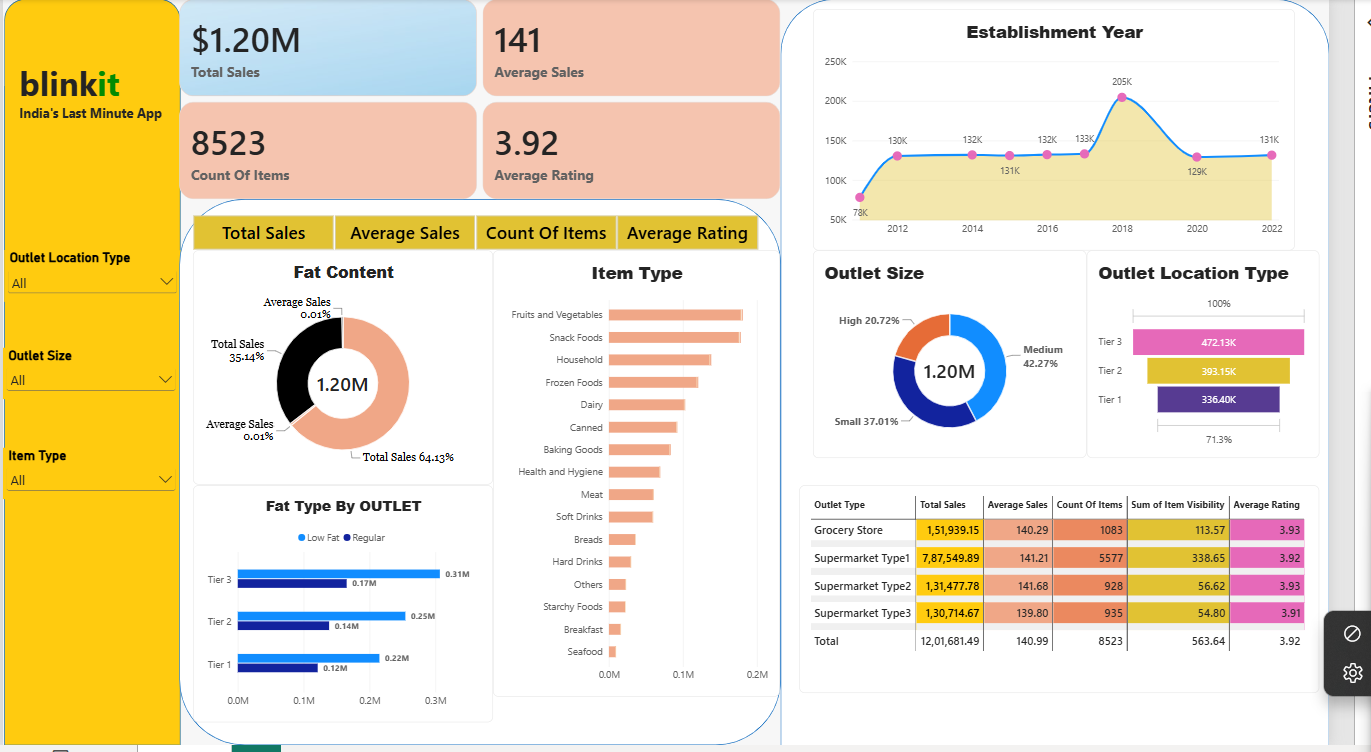

What the dashboard file says about the page in this screenshot:
{"tool":"powerbi","page":{"name":"Page 1","canvas":[1920,1080],"ordinal":0},"visuals":[{"type":"shape","box":[2.1,0,255.2,1080.6],"z":0},{"type":"textbox","box":[22.6,70,234.6,146.1],"z":1000},{"type":"slicer","fields":{"Values":["BlinkIT Grocery Data.Outlet Location Type"]},"box":[2.1,364.3,255.2,74.1],"z":2000},{"type":"slicer","fields":{"Values":["BlinkIT Grocery Data.Outlet Size"]},"box":[0,504.3,255.2,74.1],"z":3000},{"type":"slicer","fields":{"Values":["BlinkIT Grocery Data.Item Type"]},"box":[0,650.4,255.2,74.1],"z":4000},{"type":"shape","box":[254.4,290.4,871.2,790.6],"z":5000},{"type":"shape","box":[1125.6,0,794.9,1081],"z":6000},{"type":"cardVisual","fields":{"Data":["BlinkIT Grocery Data.Total Sales","BlinkIT Grocery Data.Average Sales","BlinkIT Grocery Data.Count Of Items","BlinkIT Grocery Data.Average Rating"]},"box":[254.4,0,871.2,290.4],"z":7000},{"type":"slicer","fields":{"Values":["Sales Parameter.Sales Parameter"]},"box":[254.4,311.6,856.4,53],"z":8000},{"type":"donutChart","title":"Fat Content","fields":{"Category":["BlinkIT Grocery Data.Item Fat Content"],"Y":["BlinkIT Grocery Data.Total Sales","BlinkIT Grocery Data.Average Sales","BlinkIT Grocery Data.Count Of Items","BlinkIT Grocery Data.Average Rating"]},"box":[275.6,364.6,434.5,339.1],"z":8001},{"type":"clusteredBarChart","title":"Fat Type By OUTLET","fields":{"Series":["BlinkIT Grocery Data.Item Fat Content"],"Category":["BlinkIT Grocery Data.Outlet Location Type"],"Y":["BlinkIT Grocery Data.Total Sales"]},"box":[275.6,703.7,434.5,343.4],"z":8002},{"type":"barChart","title":"Item Type","fields":{"Category":["BlinkIT Grocery Data.Item Type"],"Y":["BlinkIT Grocery Data.Total Sales","BlinkIT Grocery Data.Average Sales","BlinkIT Grocery Data.Count Of Items","BlinkIT Grocery Data.Average Rating"]},"box":[710.1,364.6,415.5,646.5],"z":8003},{"type":"lineChart","title":"Establishment Year","fields":{"Category":["BlinkIT Grocery Data.Outlet Establishment Year"],"Y":["Sum(BlinkIT Grocery Data.Sales)"]},"box":[1172.2,14.8,697.4,349.7],"z":8004},{"type":"donutChart","title":"Outlet Size","fields":{"Category":["BlinkIT Grocery Data.Outlet Size"],"Y":["Sum(BlinkIT Grocery Data.Sales)"]},"box":[1172.2,364.6,396.4,301],"z":8005},{"type":"funnel","title":"Outlet Location Type","fields":{"Category":["BlinkIT Grocery Data.Outlet Location Type"],"Y":["Sum(BlinkIT Grocery Data.Sales)"]},"box":[1568.6,364.6,337,301],"z":8006},{"type":"pivotTable","fields":{"Rows":["BlinkIT Grocery Data.Outlet Type"],"Values":["BlinkIT Grocery Data.Total Sales","BlinkIT Grocery Data.Average Sales","BlinkIT Grocery Data.Count Of Items","Sum(BlinkIT Grocery Data.Item Visibility)","BlinkIT Grocery Data.Average Rating"]},"box":[1153.1,703.7,752.5,301],"z":8007}]}

Visuals, with their boxes in screenshot pixels (x1, y1, x2, y2):
shape: <region>1, 21, 177, 751</region>
textbox: <region>16, 70, 177, 170</region>
slicer - BlinkIT Grocery Data.Outlet Location Type: <region>1, 272, 177, 323</region>
slicer - BlinkIT Grocery Data.Outlet Size: <region>0, 368, 176, 419</region>
slicer - BlinkIT Grocery Data.Item Type: <region>0, 469, 176, 520</region>
shape: <region>175, 221, 774, 751</region>
shape: <region>774, 21, 1321, 751</region>
cardVisual - BlinkIT Grocery Data.Total Sales x BlinkIT Grocery Data.Average Sales: <region>175, 21, 774, 221</region>
slicer - Sales Parameter.Sales Parameter: <region>175, 236, 764, 272</region>
"Fat Content" donutChart: <region>190, 272, 488, 505</region>
"Fat Type By OUTLET" clusteredBarChart: <region>190, 505, 488, 742</region>
"Item Type" barChart: <region>488, 272, 774, 717</region>
"Establishment Year" lineChart: <region>806, 32, 1286, 272</region>
"Outlet Size" donutChart: <region>806, 272, 1079, 479</region>
"Outlet Location Type" funnel: <region>1079, 272, 1311, 479</region>
pivotTable - BlinkIT Grocery Data.Outlet Type x BlinkIT Grocery Data.Total Sales: <region>793, 505, 1311, 713</region>
